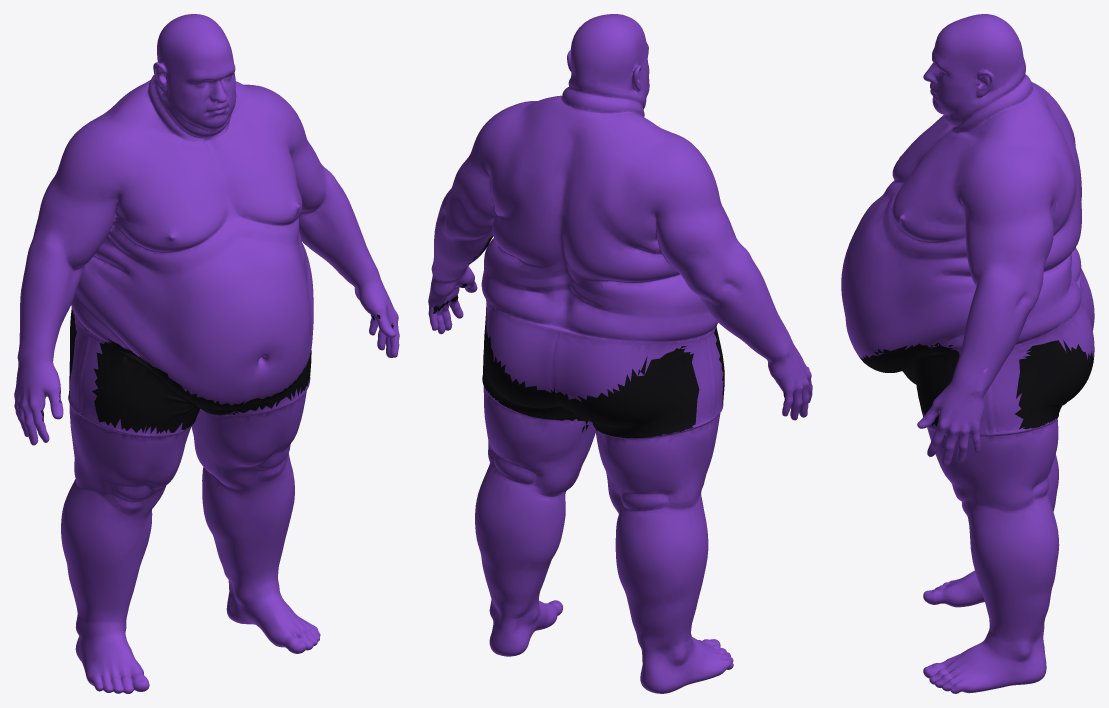
Rendered from zen_m_b11_d1_60000.glb.
3 views of the same model, side by side, from view 1: azimuth 30°, elevation 25°; view 2: azimuth 150°, elevation 25°; view 3: azimuth 270°, elevation 25° (orthographic).
Parts seen in each view (by area): view 1: mesh_node; view 2: mesh_node; view 3: mesh_node.
Boxes of the visible parts, x1=… form: mesh_node: x1=14, y1=14, x2=399, y2=693; mesh_node: x1=428, y1=14, x2=812, y2=693; mesh_node: x1=841, y1=14, x2=1094, y2=693.
Size of the model in its own units: 1.07 by 1.75 by 0.6418.
